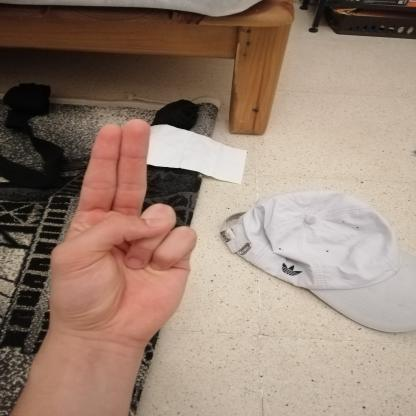TA: (24, 105, 212, 357)
